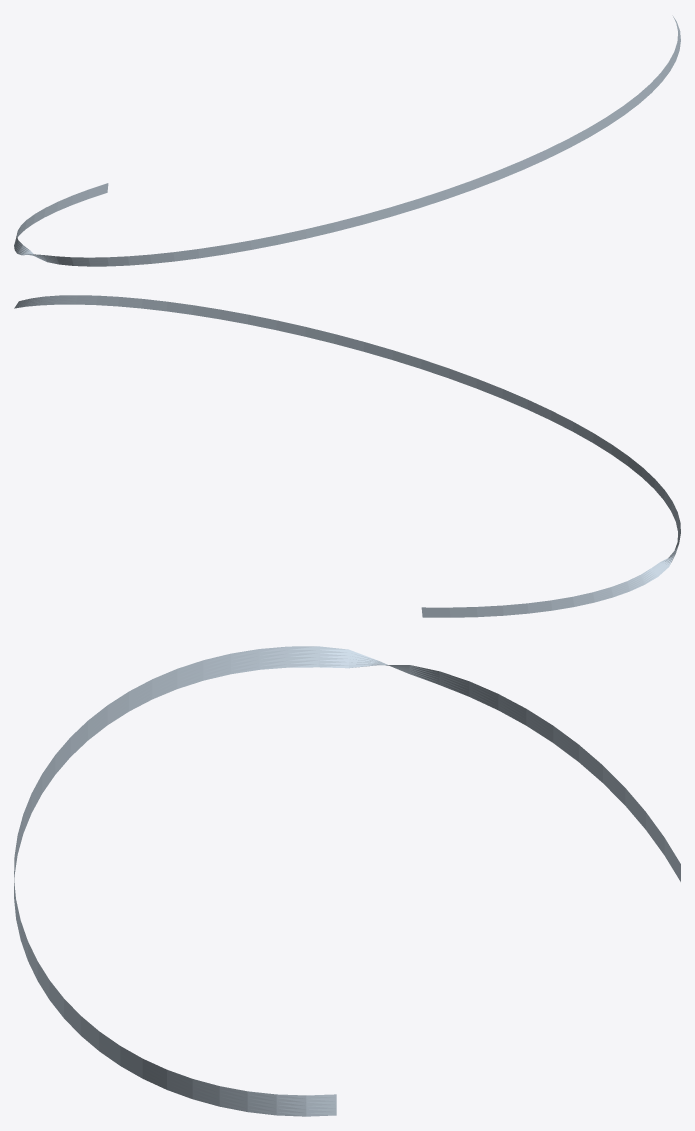
File: 2085_ElectricRebirth_Overall_OwnRebirthFlow_3.fbx
The picture shows the model from 3 angles, top to bottom: view 1: azimuth 30°, elevation 25°; view 2: azimuth 150°, elevation 25°; view 3: azimuth 270°, elevation 25°; orthographic projection. The views are drawn at different scales.
Parts seen in each view (by area): view 1: PART_Electro_OwnRebirthFlow_3; view 2: PART_Electro_OwnRebirthFlow_3; view 3: PART_Electro_OwnRebirthFlow_3.
Part boxes in pixels (x1,y1,x2,y2): PART_Electro_OwnRebirthFlow_3: (14,15,680,266); PART_Electro_OwnRebirthFlow_3: (14,295,680,617); PART_Electro_OwnRebirthFlow_3: (14,646,680,1116).
Bounding box in the file's own units: 222 × 41.36 × 101.
